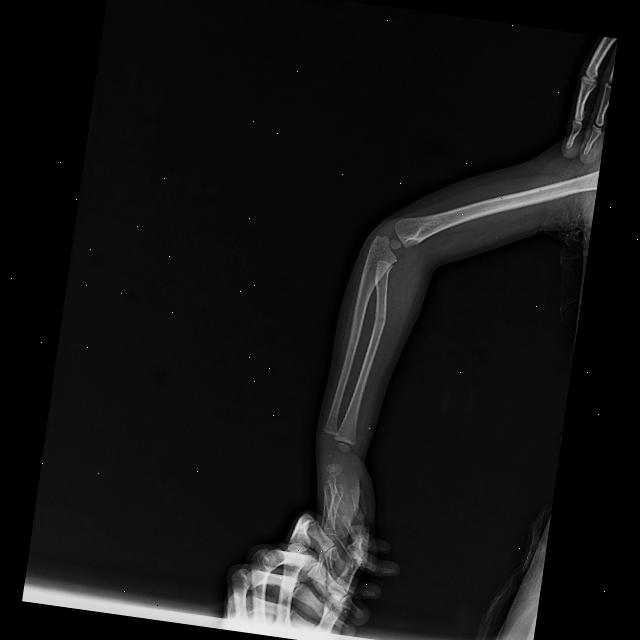Fracture: (373, 307, 388, 326)
